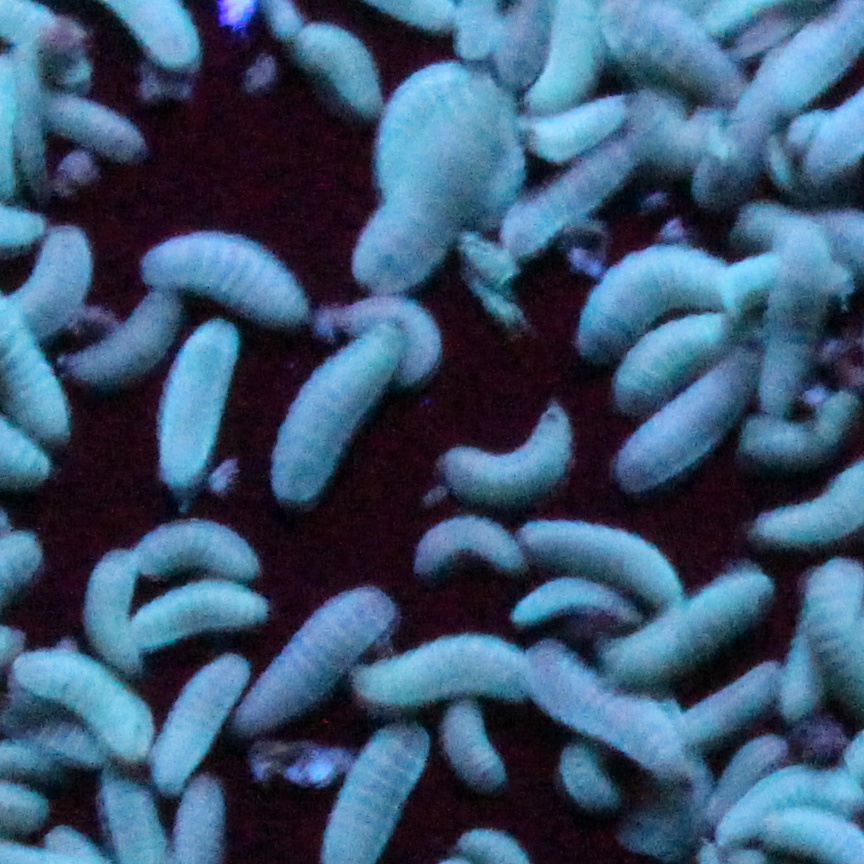larve: (363, 79, 493, 279), (263, 326, 402, 504), (234, 577, 391, 730), (613, 344, 765, 495), (138, 217, 318, 324), (522, 641, 671, 768), (578, 246, 731, 366), (518, 503, 691, 603), (605, 568, 765, 674), (436, 395, 582, 504), (754, 221, 836, 415), (154, 310, 242, 483), (502, 137, 640, 244), (609, 304, 733, 415), (349, 630, 534, 704), (14, 648, 147, 750), (158, 654, 247, 795), (371, 64, 458, 197), (124, 575, 271, 650), (329, 286, 445, 379), (287, 17, 391, 117), (25, 84, 160, 161), (64, 290, 180, 377), (131, 519, 260, 583), (682, 661, 780, 744), (82, 546, 147, 668), (402, 512, 529, 572), (733, 399, 856, 455), (440, 697, 509, 786)
